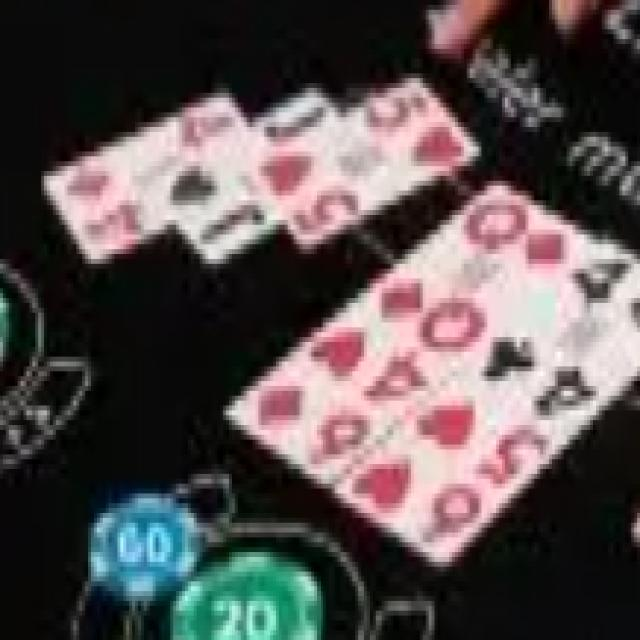Card-4: (462, 240, 640, 442), (44, 90, 247, 264), (298, 299, 451, 417)
Card-5: (249, 74, 481, 254), (399, 375, 564, 506)
Card-6: (332, 422, 502, 569), (226, 348, 393, 484)
Card-J: (145, 84, 339, 264)
Card-Q: (358, 177, 592, 370)
